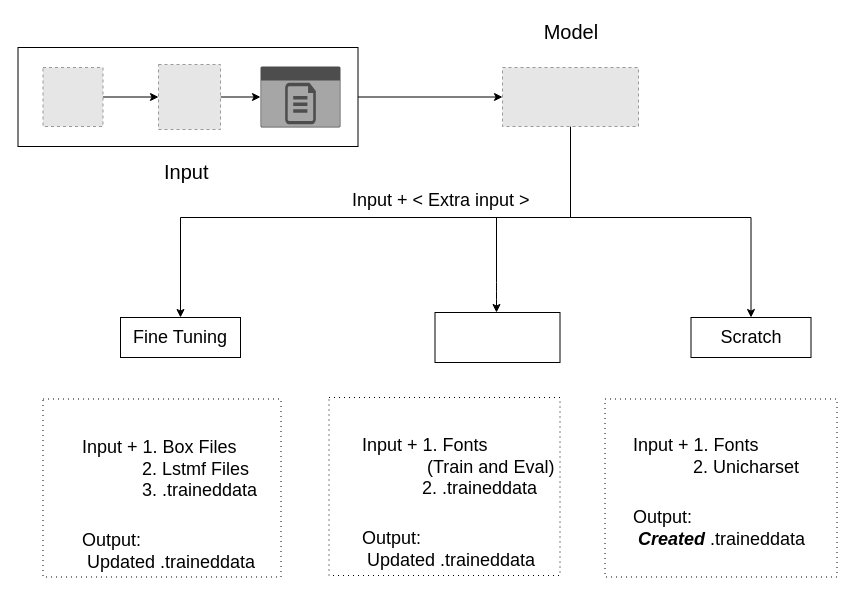
This 854x594 diagram has some shape labels left out. Grey dashed boxes stand in for pictures. Each missing label, with the centre of its shape:
Ground Truth: pixel 300 96
Top Layer Removal: pixel 497 337
